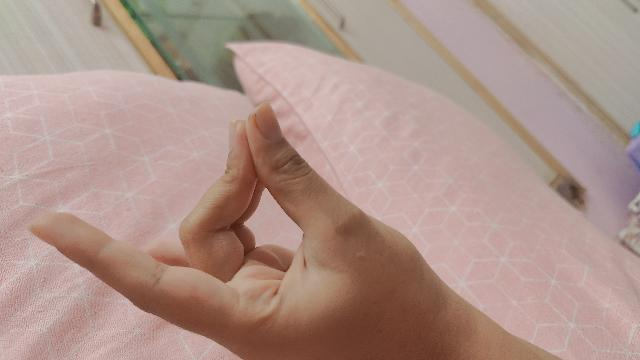sinhamukh: (29, 105, 560, 360)
